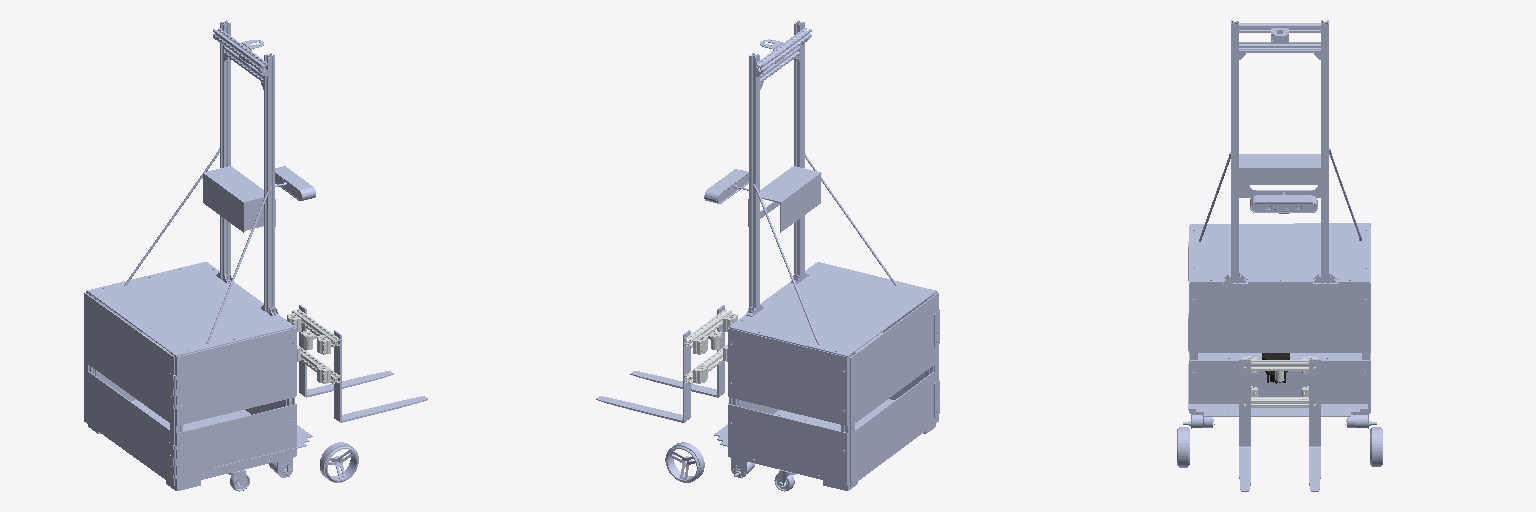
The robot description file, URDF, robot "amr_description":
<?xml version="1.0" encoding="utf-8"?>
<!-- This URDF was automatically created by SolidWorks to URDF Exporter! Originally created by Stephen Brawner (brawner@gmail.com) 
     Commit Version: 1.6.0-4-g7f85cfe  Build Version: 1.6.7995.38578
     For more information, please see http://wiki.ros.org/sw_urdf_exporter -->
<robot
  name="amr_description">
  <link
    name="base_link">
    <inertial>
      <origin
        xyz="0.019114 0.00012696 0.22282"
        rpy="0 0 0" />
      <mass
        value="4.3053" />
      <inertia
        ixx="0.057939"
        ixy="-1.6481E-05"
        ixz="-7.0261E-07"
        iyy="0.039249"
        iyz="-4.4701E-09"
        izz="0.061312" />
    </inertial>
    <visual>
      <origin
        xyz="0 0 0"
        rpy="0 0 0" />
      <geometry>
        <mesh
          filename="package://amr_description/meshes/base_link.STL" />
      </geometry>
      <material
        name="">
        <color
          rgba="0.79216 0.81961 0.93333 1" />
      </material>
    </visual>
    <collision>
      <origin
        xyz="0 0 0"
        rpy="0 0 0" />
      <geometry>
        <mesh
          filename="package://amr_description/meshes/base_link.STL" />
      </geometry>
    </collision>
  </link>
  <link
    name="front_encoder_wheel_right_link">
    <inertial>
      <origin
        xyz="-1.5144E-06 0.0002918 3.6518E-06"
        rpy="0 0 0" />
      <mass
        value="0.024134" />
      <inertia
        ixx="7.2664E-06"
        ixy="3.4128E-10"
        ixz="-1.5121E-10"
        iyy="1.4069E-05"
        iyz="-8.2298E-10"
        izz="7.2667E-06" />
    </inertial>
    <visual>
      <origin
        xyz="0 0 0"
        rpy="0 0 0" />
      <geometry>
        <mesh
          filename="package://amr_description/meshes/front_encoder_wheel_right_link.STL" />
      </geometry>
      <material
        name="">
        <color
          rgba="0.79216 0.81961 0.93333 1" />
      </material>
    </visual>
    <collision>
      <origin
        xyz="0 0 0"
        rpy="0 0 0" />
      <geometry>
        <mesh
          filename="package://amr_description/meshes/front_encoder_wheel_right_link.STL" />
      </geometry>
    </collision>
  </link>
  <joint
    name="front_encoder_wheel_right_joint"
    type="continuous">
    <origin
      xyz="0.1425 -0.2361 -0.060003"
      rpy="0 0 0" />
    <parent
      link="base_link" />
    <child
      link="front_encoder_wheel_right_link" />
    <axis
      xyz="0 1 0" />
    <limit
      effort="0.863"
      velocity="11.52" />
    <dynamics
      damping="0.05"
      friction="0.01" />
  </joint>
  <link
    name="front_encoder_wheel_left_link">
    <inertial>
      <origin
        xyz="1.5219E-06 -0.0002918 3.9534E-06"
        rpy="0 0 0" />
      <mass
        value="0.024134" />
      <inertia
        ixx="7.2664E-06"
        ixy="5.0968E-15"
        ixz="8.5059E-17"
        iyy="1.4069E-05"
        iyz="8.9093E-10"
        izz="7.2668E-06" />
    </inertial>
    <visual>
      <origin
        xyz="0 0 0"
        rpy="0 0 0" />
      <geometry>
        <mesh
          filename="package://amr_description/meshes/front_encoder_wheel_left_link.STL" />
      </geometry>
      <material
        name="">
        <color
          rgba="0.79216 0.81961 0.93333 1" />
      </material>
    </visual>
    <collision>
      <origin
        xyz="0 0 0"
        rpy="0 0 0" />
      <geometry>
        <mesh
          filename="package://amr_description/meshes/front_encoder_wheel_left_link.STL" />
      </geometry>
    </collision>
  </link>
  <joint
    name="front_encoder_wheel_left_joint"
    type="continuous">
    <origin
      xyz="0.1425 0.2361 -0.060003"
      rpy="0 0 0" />
    <parent
      link="base_link" />
    <child
      link="front_encoder_wheel_left_link" />
    <axis
      xyz="0 1 0" />
    <limit
      effort="0.863"
      velocity="11.52" />
    <dynamics
      damping="0.05"
      friction="0.01" />
  </joint>
  <link
    name="rear_caster_steer_right_link">
    <inertial>
      <origin
        xyz="0.0038212 0.00010359 -0.0060358"
        rpy="0 0 0" />
      <mass
        value="0.017982" />
      <inertia
        ixx="4.1875E-06"
        ixy="-3.0277E-10"
        ixz="4.8429E-07"
        iyy="4.6848E-06"
        iyz="1.9966E-09"
        izz="6.7911E-06" />
    </inertial>
    <visual>
      <origin
        xyz="0 0 0"
        rpy="0 0 0" />
      <geometry>
        <mesh
          filename="package://amr_description/meshes/rear_caster_steer_right_link.STL" />
      </geometry>
      <material
        name="">
        <color
          rgba="0.79216 0.81961 0.93333 1" />
      </material>
    </visual>
    <collision>
      <origin
        xyz="0 0 0"
        rpy="0 0 0" />
      <geometry>
        <mesh
          filename="package://amr_description/meshes/rear_caster_steer_right_link.STL" />
      </geometry>
    </collision>
  </link>
  <joint
    name="rear_caster_steer_right_joint"
    type="continuous">
    <origin
      xyz="-0.1332 -0.1931 -0.027503"
      rpy="0 0 0" />
    <parent
      link="base_link" />
    <child
      link="rear_caster_steer_right_link" />
    <axis
      xyz="0 0 1" />
    <dynamics
      damping="0.1"
      friction="0.02" />
  </joint>
  <link
    name="rear_caster_wheel_right_link">
    <inertial>
      <origin
        xyz="0 -1.7764E-15 1.6431E-14"
        rpy="0 0 0" />
      <mass
        value="0.029434" />
      <inertia
        ixx="6.2759E-06"
        ixy="-1.454E-23"
        ixz="-1.1292E-21"
        iyy="1.0557E-05"
        iyz="1.4839E-20"
        izz="6.2759E-06" />
    </inertial>
    <visual>
      <origin
        xyz="0 0 0"
        rpy="0 0 0" />
      <geometry>
        <mesh
          filename="package://amr_description/meshes/rear_caster_wheel_right_link.STL" />
      </geometry>
      <material
        name="">
        <color
          rgba="0.79216 0.81961 0.93333 1" />
      </material>
    </visual>
    <collision>
      <origin
        xyz="0 0 0"
        rpy="0 0 0" />
      <geometry>
        <mesh
          filename="package://amr_description/meshes/rear_caster_wheel_right_link.STL" />
      </geometry>
    </collision>
  </link>
  <joint
    name="rear_caster_wheel_right_joint"
    type="continuous">
    <origin
      xyz="0.017 0 -0.0405"
      rpy="0 0 0" />
    <parent
      link="rear_caster_steer_right_link" />
    <child
      link="rear_caster_wheel_right_link" />
    <axis
      xyz="0 1 0" />
    <dynamics
      damping="0.02"
      friction="0.01" />
  </joint>
  <link
    name="rear_caster_steer_left_link">
    <inertial>
      <origin
        xyz="0.0025589 2.4436E-06 -0.0026361"
        rpy="0 0 0" />
      <mass
        value="0.01641" />
      <inertia
        ixx="3.9385E-06"
        ixy="-2.9781E-10"
        ixz="4.8428E-07"
        iyy="4.6711E-06"
        iyz="1.9818E-09"
        izz="6.5421E-06" />
    </inertial>
    <visual>
      <origin
        xyz="0 0 0"
        rpy="0 0 0" />
      <geometry>
        <mesh
          filename="package://amr_description/meshes/rear_caster_steer_left_link.STL" />
      </geometry>
      <material
        name="">
        <color
          rgba="0.79216 0.81961 0.93333 1" />
      </material>
    </visual>
    <collision>
      <origin
        xyz="0 0 0"
        rpy="0 0 0" />
      <geometry>
        <mesh
          filename="package://amr_description/meshes/rear_caster_steer_left_link.STL" />
      </geometry>
    </collision>
  </link>
  <joint
    name="rear_caster_steer_left_joint"
    type="continuous">
    <origin
      xyz="-0.1332 0.1931 -0.027503"
      rpy="0 0 0" />
    <parent
      link="base_link" />
    <child
      link="rear_caster_steer_left_link" />
    <axis
      xyz="0 0 1" />
    <dynamics
      damping="0.1"
      friction="0.02" />
  </joint>
  <link
    name="rear_caster_wheel_left_link">
    <inertial>
      <origin
        xyz="-2.2204E-16 0 9.8478E-05"
        rpy="0 0 0" />
      <mass
        value="0.029434" />
      <inertia
        ixx="6.2759E-06"
        ixy="-2.1003E-23"
        ixz="-1.1292E-21"
        iyy="1.0557E-05"
        iyz="1.482E-20"
        izz="6.2759E-06" />
    </inertial>
    <visual>
      <origin
        xyz="0 0 0"
        rpy="0 0 0" />
      <geometry>
        <mesh
          filename="package://amr_description/meshes/rear_caster_wheel_left_link.STL" />
      </geometry>
      <material
        name="">
        <color
          rgba="0.79216 0.81961 0.93333 1" />
      </material>
    </visual>
    <collision>
      <origin
        xyz="0 0 0"
        rpy="0 0 0" />
      <geometry>
        <mesh
          filename="package://amr_description/meshes/rear_caster_wheel_left_link.STL" />
      </geometry>
    </collision>
  </link>
  <joint
    name="rear_caster_wheel_left_joint"
    type="continuous">
    <origin
      xyz="0.017 0 -0.0405"
      rpy="0 0 0" />
    <parent
      link="rear_caster_steer_left_link" />
    <child
      link="rear_caster_wheel_left_link" />
    <axis
      xyz="0 1 0" />
    <dynamics
      damping="0.02"
      friction="0.01" />
  </joint>
  <link
    name="imu_link">
    <inertial>
      <origin
        xyz="-0.06865 0.0052659 -0.0015"
        rpy="0 0 0" />
      <mass
        value="0.43359" />
      <inertia
        ixx="0.006634"
        ixy="-3.2171E-07"
        ixz="4.5571E-21"
        iyy="0.00397"
        iyz="-4.1215E-17"
        izz="0.010603" />
    </inertial>
    <visual>
      <origin
        xyz="0 0 0"
        rpy="0 0 0" />
      <geometry>
        <mesh
          filename="package://amr_description/meshes/imu_link.STL" />
      </geometry>
      <material
        name="">
        <color
          rgba="0.79216 0.81961 0.93333 1" />
      </material>
    </visual>
    <collision>
      <origin
        xyz="0 0 0"
        rpy="0 0 0" />
      <geometry>
        <mesh
          filename="package://amr_description/meshes/imu_link.STL" />
      </geometry>
    </collision>
  </link>
  <joint
    name="imu_joint"
    type="fixed">
    <origin
      xyz="0.068481 -0.0053185 0.003"
      rpy="0 0 0" />
    <parent
      link="base_link" />
    <child
      link="imu_link" />
    <axis
      xyz="0 0 0" />
  </joint>
  <link
    name="camera_link">
    <inertial>
      <origin
        xyz="-0.019248 -9.8167E-06 -6.2437E-05"
        rpy="0 0 0" />
      <mass
        value="0.18348" />
      <inertia
        ixx="0.00039764"
        ixy="3.3694E-08"
        ixz="2.7203E-07"
        iyy="3.7098E-05"
        iyz="1.1265E-10"
        izz="0.00040744" />
    </inertial>
    <visual>
      <origin
        xyz="0 0 0"
        rpy="0 0 0" />
      <geometry>
        <mesh
          filename="package://amr_description/meshes/camera_link.STL" />
      </geometry>
      <material
        name="">
        <color
          rgba="0.79216 0.81961 0.93333 1" />
      </material>
    </visual>
    <collision>
      <origin
        xyz="0 0 0"
        rpy="0 0 0" />
      <geometry>
        <mesh
          filename="package://amr_description/meshes/camera_link.STL" />
      </geometry>
    </collision>
  </link>
  <joint
    name="camera_joint"
    type="fixed">
    <origin
      xyz="0.17 0.0094248 0.59819"
      rpy="0 0 0" />
    <parent
      link="base_link" />
    <child
      link="camera_link" />
    <axis
      xyz="0 0 0" />
  </joint>
  <link
    name="lidar_link">
    <inertial>
      <origin
        xyz="0.0052983 0.0090128 -0.0073008"
        rpy="0 0 0" />
      <mass
        value="0.14165" />
      <inertia
        ixx="5.691E-05"
        ixy="-2.879E-07"
        ixz="1.2475E-05"
        iyy="8.9322E-05"
        iyz="-7.2186E-07"
        izz="0.0001087" />
    </inertial>
    <visual>
      <origin
        xyz="0 0 0"
        rpy="0 0 0" />
      <geometry>
        <mesh
          filename="package://amr_description/meshes/lidar_link.STL" />
      </geometry>
      <material
        name="">
        <color
          rgba="0.21176 0.21176 0.20392 1" />
      </material>
    </visual>
    <collision>
      <origin
        xyz="0 0 0"
        rpy="0 0 0" />
      <geometry>
        <mesh
          filename="package://amr_description/meshes/lidar_link.STL" />
      </geometry>
    </collision>
  </link>
  <joint
    name="lidar_joint"
    type="fixed">
    <origin
      xyz="0.043679 -0.0092089 0.13106"
      rpy="0 0 0" />
    <parent
      link="base_link" />
    <child
      link="lidar_link" />
    <axis
      xyz="0 0 0" />
  </joint>
  <link
    name="base_lift_link">
    <inertial>
      <origin
        xyz="-0.0031573 -0.00019685 0.5257"
        rpy="0 0 0" />
      <mass
        value="0.32649" />
      <inertia
        ixx="0.017863"
        ixy="-1.3916E-10"
        ixz="1.7334E-07"
        iyy="0.017857"
        iyz="1.3047E-08"
        izz="3.209E-05" />
    </inertial>
    <visual>
      <origin
        xyz="0 0 0"
        rpy="0 0 0" />
      <geometry>
        <mesh
          filename="package://amr_description/meshes/base_lift_link.STL" />
      </geometry>
      <material
        name="">
        <color
          rgba="0.79216 0.81961 0.93333 1" />
      </material>
    </visual>
    <collision>
      <origin
        xyz="0 0 0"
        rpy="0 0 0" />
      <geometry>
        <mesh
          filename="package://amr_description/meshes/base_lift_link.STL" />
      </geometry>
    </collision>
  </link>
  <joint
    name="base_lift_joint"
    type="fixed">
    <origin
      xyz="0.192 0.00019696 0.020997"
      rpy="0 0 0" />
    <parent
      link="base_link" />
    <child
      link="base_lift_link" />
    <axis
      xyz="0 0 0" />
  </joint>
  <link
    name="encoder_lift_link">
    <inertial>
      <origin
        xyz="0.0033642 -0.00019875 0.12362"
        rpy="0 0 0" />
      <mass
        value="0.35736" />
      <inertia
        ixx="0.0002796"
        ixy="-7.6367E-08"
        ixz="7.7979E-09"
        iyy="4.9699E-05"
        iyz="-3.2417E-10"
        izz="0.00026477" />
    </inertial>
    <visual>
      <origin
        xyz="0 0 0"
        rpy="0 0 0" />
      <geometry>
        <mesh
          filename="package://amr_description/meshes/encoder_lift_link.STL" />
      </geometry>
      <material
        name="">
        <color
          rgba="0.89804 0.91765 0.92941 1" />
      </material>
    </visual>
    <collision>
      <origin
        xyz="0 0 0"
        rpy="0 0 0" />
      <geometry>
        <mesh
          filename="package://amr_description/meshes/encoder_lift_link.STL" />
      </geometry>
    </collision>
  </link>
  <joint
    name="encoder_lift_joint"
    type="prismatic">
    <origin
      xyz="0 0 0"
      rpy="0 0 0" />
    <parent
      link="base_lift_link" />
    <child
      link="encoder_lift_link" />
    <axis
      xyz="0 0 1" />
    <limit
      lower="-0.04"
      upper="0.8"
      effort="50"
      velocity="0.1" />
  </joint>
  <link
    name="left_fork_link">
    <inertial>
      <origin
        xyz="-0.039844 -0.0013174 0.05927"
        rpy="0 0 0" />
      <mass
        value="0.068058" />
      <inertia
        ixx="0.00040899"
        ixy="-3.2932E-08"
        ixz="0.00022639"
        iyy="0.00077405"
        iyz="-2.9321E-08"
        izz="0.00037494" />
    </inertial>
    <visual>
      <origin
        xyz="0 0 0"
        rpy="0 0 0" />
      <geometry>
        <mesh
          filename="package://amr_description/meshes/left_fork_link.STL" />
      </geometry>
      <material
        name="">
        <color
          rgba="0.79216 0.81961 0.93333 1" />
      </material>
    </visual>
    <collision>
      <origin
        xyz="0 0 0"
        rpy="0 0 0" />
      <geometry>
        <mesh
          filename="package://amr_description/meshes/left_fork_link.STL" />
      </geometry>
    </collision>
  </link>
  <joint
    name="left_fork_right"
    type="fixed">
    <origin
      xyz="0.1275 0.086108 -0.042399"
      rpy="0 0 0" />
    <parent
      link="encoder_lift_link" />
    <child
      link="left_fork_link" />
    <axis
      xyz="0 0 0" />
  </joint>
  <link
    name="right_fork_link">
    <inertial>
      <origin
        xyz="-0.039844 0.00013385 0.05927"
        rpy="0 0 0" />
      <mass
        value="0.068058" />
      <inertia
        ixx="0.00040899"
        ixy="-3.2932E-08"
        ixz="0.00022639"
        iyy="0.00077405"
        iyz="-2.9321E-08"
        izz="0.00037494" />
    </inertial>
    <visual>
      <origin
        xyz="0 0 0"
        rpy="0 0 0" />
      <geometry>
        <mesh
          filename="package://amr_description/meshes/right_fork_link.STL" />
      </geometry>
      <material
        name="">
        <color
          rgba="0.79216 0.81961 0.93333 1" />
      </material>
    </visual>
    <collision>
      <origin
        xyz="0 0 0"
        rpy="0 0 0" />
      <geometry>
        <mesh
          filename="package://amr_description/meshes/right_fork_link.STL" />
      </geometry>
    </collision>
  </link>
  <joint
    name="right_fork_joint"
    type="fixed">
    <origin
      xyz="0.1275 -0.085344 -0.042399"
      rpy="0 0 0" />
    <parent
      link="encoder_lift_link" />
    <child
      link="right_fork_link" />
    <axis
      xyz="0 0 0" />
  </joint>
</robot>

--- What the picture shows (computed from the rendered views, not written in the file) ---
Views: 3 orthographic renders of the robot side by side, from view 1: azimuth 30°, elevation 25°; view 2: azimuth 150°, elevation 25°; view 3: azimuth 270°, elevation 25°.
Robot: amr_description — 14 links, 13 joints (6 continuous, 1 prismatic, 6 fixed); root link base_link; default pose: all joints at 0.
Links seen in each view (by area): view 1: base_link, encoder_lift_link, right_fork_link, imu_link, front_encoder_wheel_right_link, left_fork_link, camera_link; view 2: base_link, encoder_lift_link, left_fork_link, front_encoder_wheel_left_link, right_fork_link, camera_link, imu_link; view 3: base_link, imu_link, encoder_lift_link, left_fork_link, right_fork_link, camera_link.
Boxes of the visible links, bbox=[...] form: base_link: bbox=[84, 20, 296, 490]; encoder_lift_link: bbox=[287, 309, 339, 384]; right_fork_link: bbox=[334, 330, 427, 422]; imu_link: bbox=[131, 400, 312, 468]; front_encoder_wheel_right_link: bbox=[320, 442, 358, 482]; left_fork_link: bbox=[299, 305, 393, 397]; camera_link: bbox=[275, 166, 315, 200]; base_link: bbox=[728, 21, 939, 490]; encoder_lift_link: bbox=[684, 309, 737, 383]; left_fork_link: bbox=[596, 330, 690, 422]; front_encoder_wheel_left_link: bbox=[665, 442, 704, 482]; right_fork_link: bbox=[630, 305, 724, 397]; camera_link: bbox=[704, 169, 748, 203]; imu_link: bbox=[714, 399, 894, 446]; base_link: bbox=[1183, 20, 1376, 428]; imu_link: bbox=[1188, 357, 1367, 416]; encoder_lift_link: bbox=[1242, 356, 1317, 407]; left_fork_link: bbox=[1309, 359, 1320, 491]; right_fork_link: bbox=[1239, 359, 1250, 491]; camera_link: bbox=[1250, 192, 1317, 213].
Size in the robot's own frame: 0.7996 by 0.5022 by 1.14 metres.
Meshes: 14 distinct files referenced, 13 mesh visuals loaded (13 binary STL); not drawn: 1 (reference not matched to a file when rendering).
